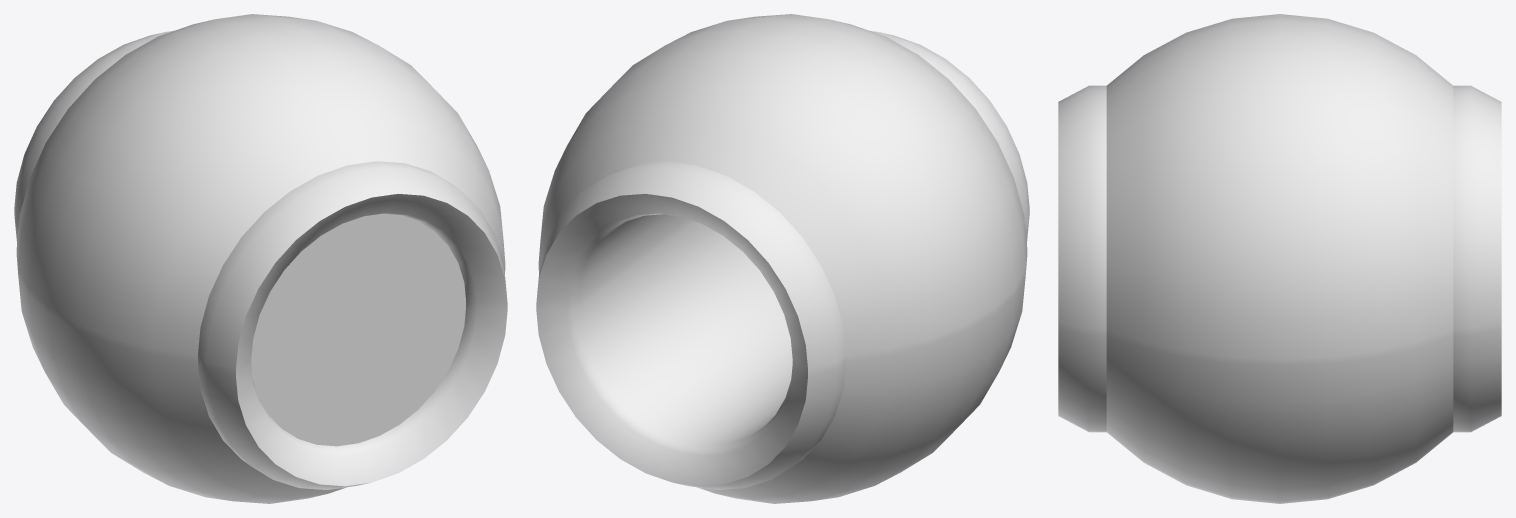
The model's file is mvd_naval_yard.glb.
3 renders of one model, left to right at view 1: azimuth 30°, elevation 25°; view 2: azimuth 150°, elevation 25°; view 3: azimuth 270°, elevation 25°, orthographic.
Parts seen in each view (by area): view 1: Body; view 2: Body; view 3: Body.
Part boxes in pixels (box(x1,y1,x2,y2)): Body: box(14, 14, 507, 503); Body: box(536, 14, 1029, 503); Body: box(1058, 14, 1501, 503).
Size of the model in its own units: 16 by 16.02 by 14.48.
1 material, 1 textured.
